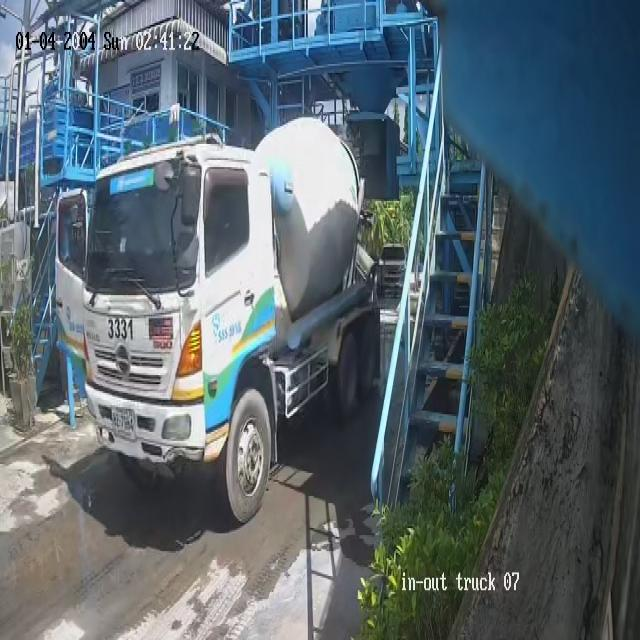cement_mixer_truck: (55, 117, 378, 524)
